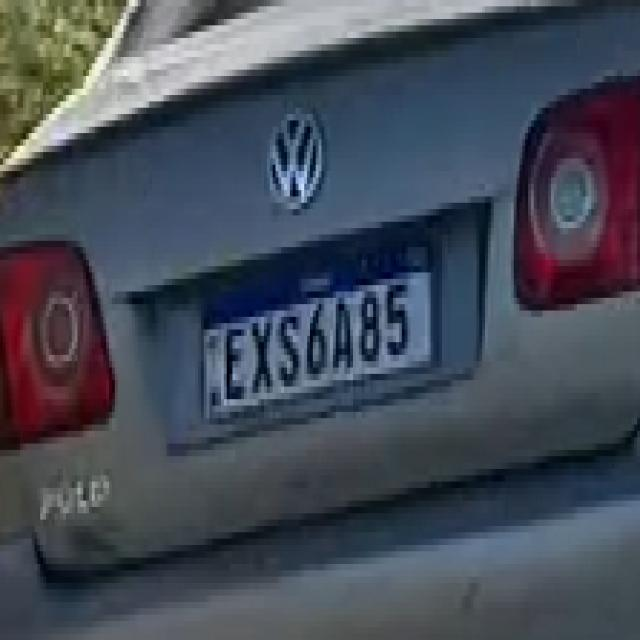Placa_mercosul_carro: (201, 232, 432, 423)
